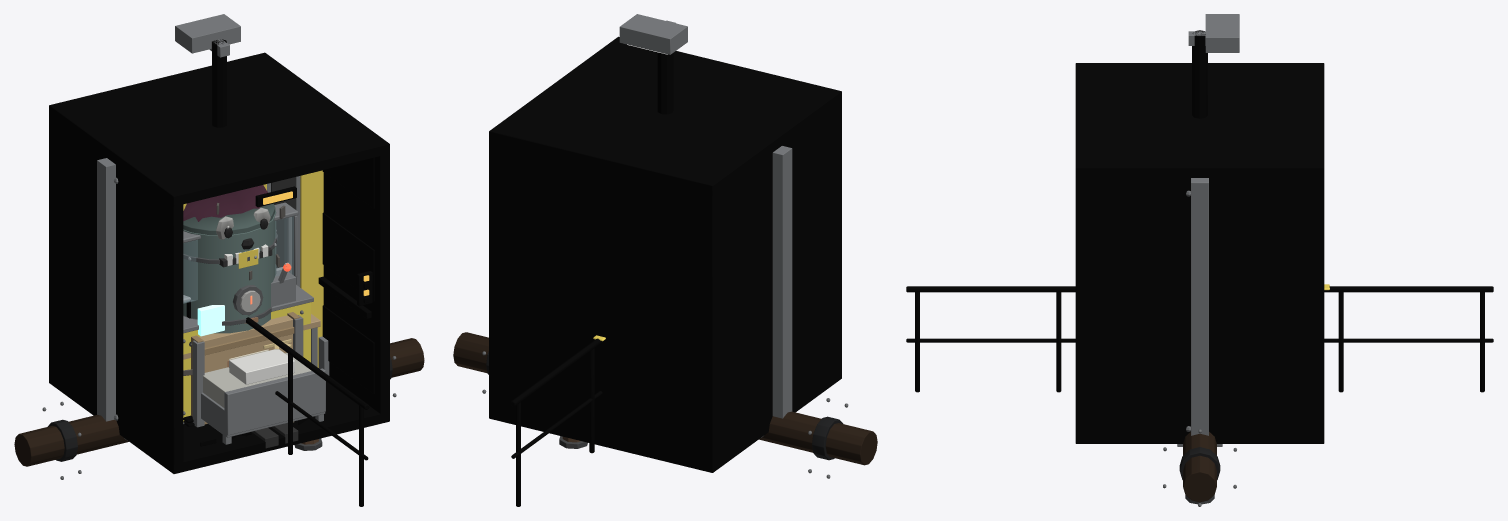
File: props.glb
3 views of the same model, side by side, from view 1: azimuth 30°, elevation 25°; view 2: azimuth 150°, elevation 25°; view 3: azimuth 270°, elevation 25° (orthographic). The views are drawn at different scales.
Visible parts, largest first — view 1: elevator, blastdoor, tank, bed, pipe, crate, generator, lamppost, mascot, sample_station, stairs_rail, corpse (+1 smaller); view 2: elevator, blastdoor, pipe, lamppost, stairs_rail; view 3: elevator, stairs_rail, blastdoor, lamppost, pipe.
Boxes of the visible parts, x1=… form: elevator: x1=49, y1=52, x2=389, y2=473; blastdoor: x1=97, y1=158, x2=323, y2=421; tank: x1=183, y1=203, x2=291, y2=367; bed: x1=201, y1=349, x2=325, y2=444; pipe: x1=14, y1=336, x2=424, y2=479; crate: x1=189, y1=312, x2=303, y2=427; generator: x1=183, y1=262, x2=313, y2=423; lamppost: x1=175, y1=14, x2=240, y2=127; mascot: x1=183, y1=185, x2=285, y2=280; sample_station: x1=183, y1=202, x2=298, y2=303; stairs_rail: x1=246, y1=317, x2=369, y2=506; corpse: x1=252, y1=421, x2=298, y2=448; elevator: x1=489, y1=36, x2=841, y2=472; blastdoor: x1=772, y1=146, x2=792, y2=418; pipe: x1=453, y1=332, x2=877, y2=478; lamppost: x1=619, y1=14, x2=687, y2=114; stairs_rail: x1=510, y1=335, x2=605, y2=506; elevator: x1=1075, y1=63, x2=1324, y2=443; stairs_rail: x1=906, y1=284, x2=1493, y2=392; blastdoor: x1=1186, y1=178, x2=1208, y2=435; lamppost: x1=1188, y1=14, x2=1239, y2=118; pipe: x1=1163, y1=429, x2=1236, y2=506.
Bounding box in the file's own units: 4 × 4.2 × 5.2.
